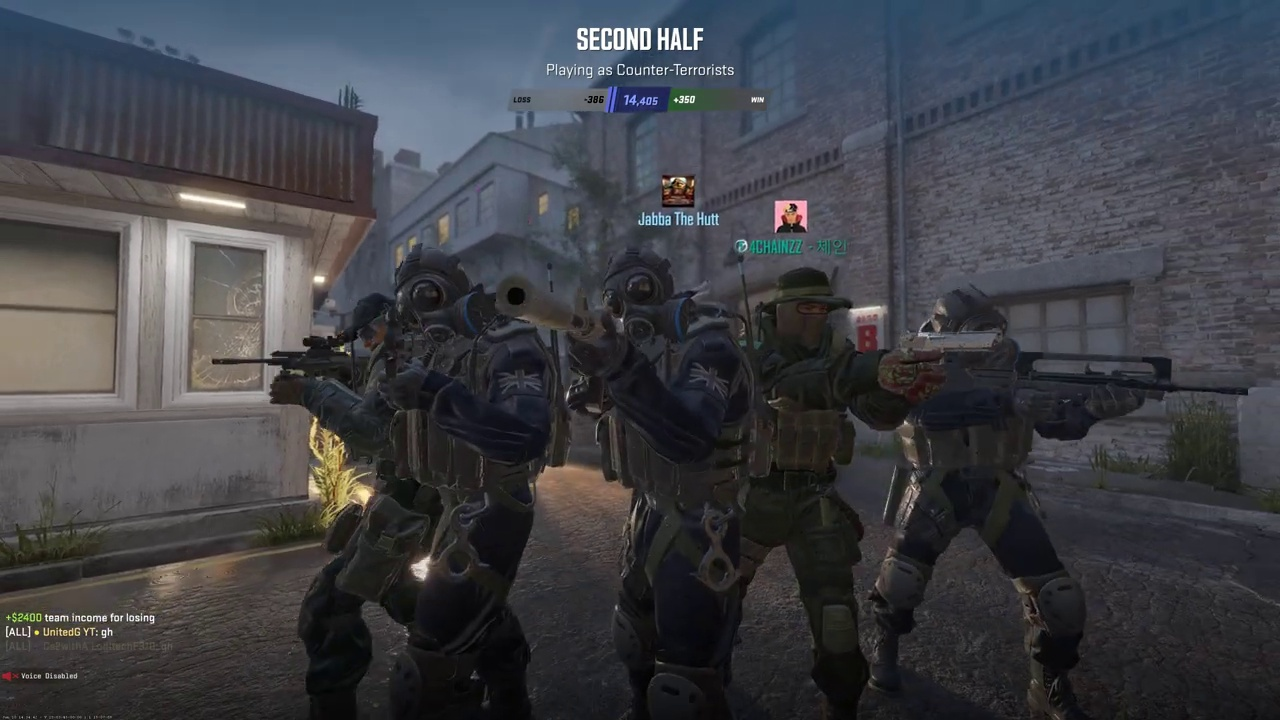CT: (884, 285, 1078, 715), (584, 245, 745, 717), (395, 242, 547, 714), (729, 269, 887, 714), (286, 291, 391, 720)
